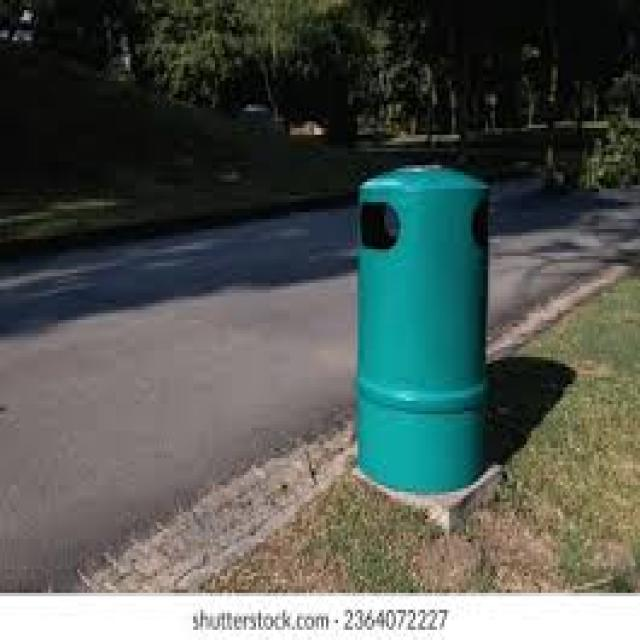bin_empty: (350, 162, 486, 492)
